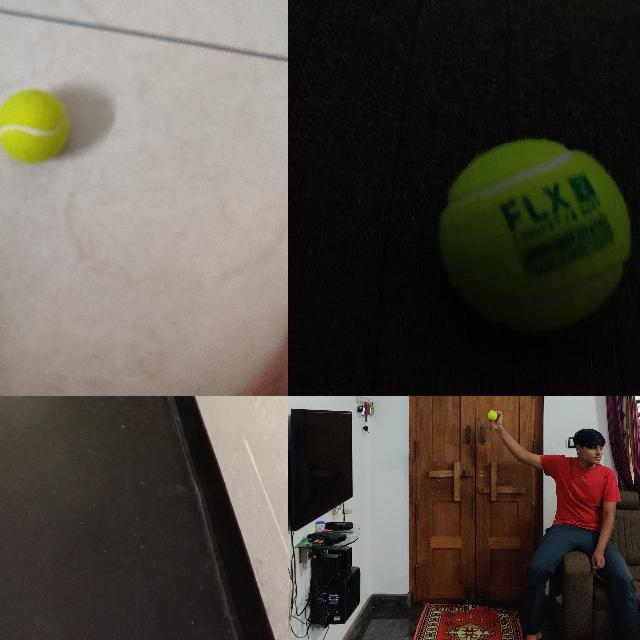tennis-ball: (438, 139, 631, 332), (0, 90, 69, 163), (487, 410, 497, 420)
